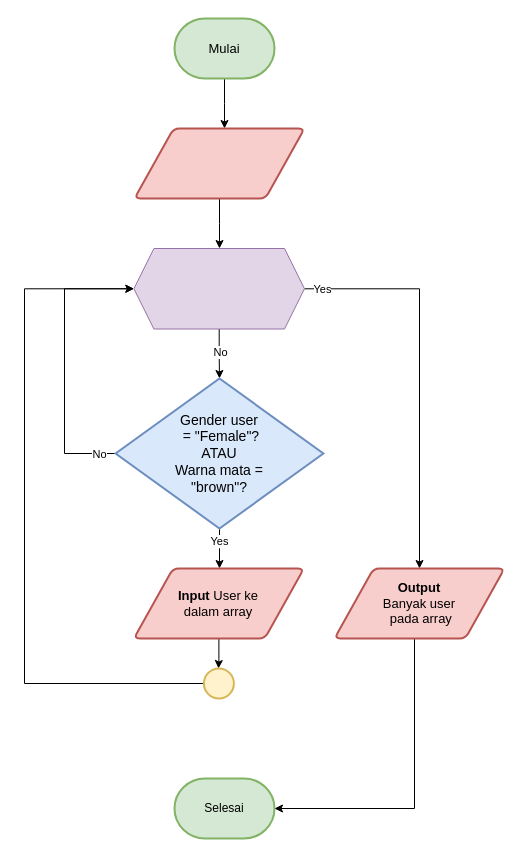
Image size: 523x856. Some labels were removed from this diagram. The shapes that lost their labels are listed below. From the top down, each one's centre as x and y in pixels, then its label:
[219,163]: Input gender user dan warna mata
[218,288]: I = 0 sampai usersData.length
